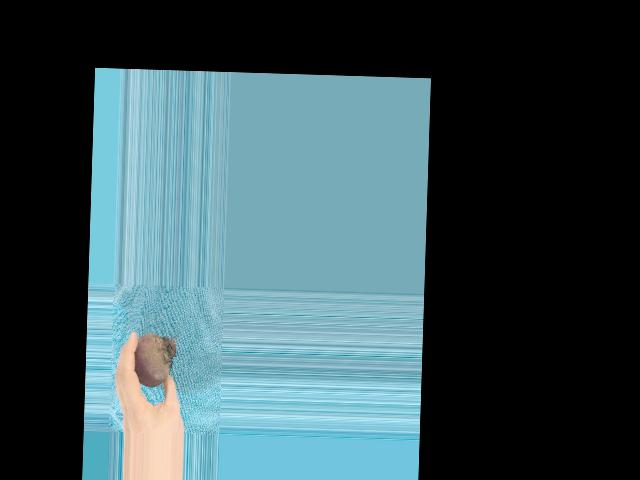beet: (134, 332, 178, 387)
